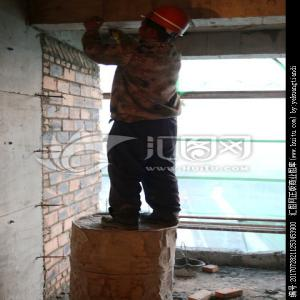yellow: (137, 8, 191, 42)
